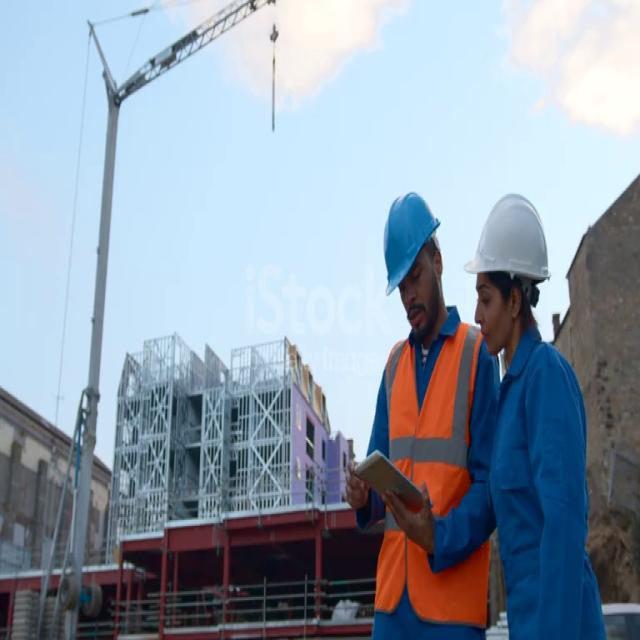capacete: (460, 184, 557, 304), (372, 179, 448, 320)
